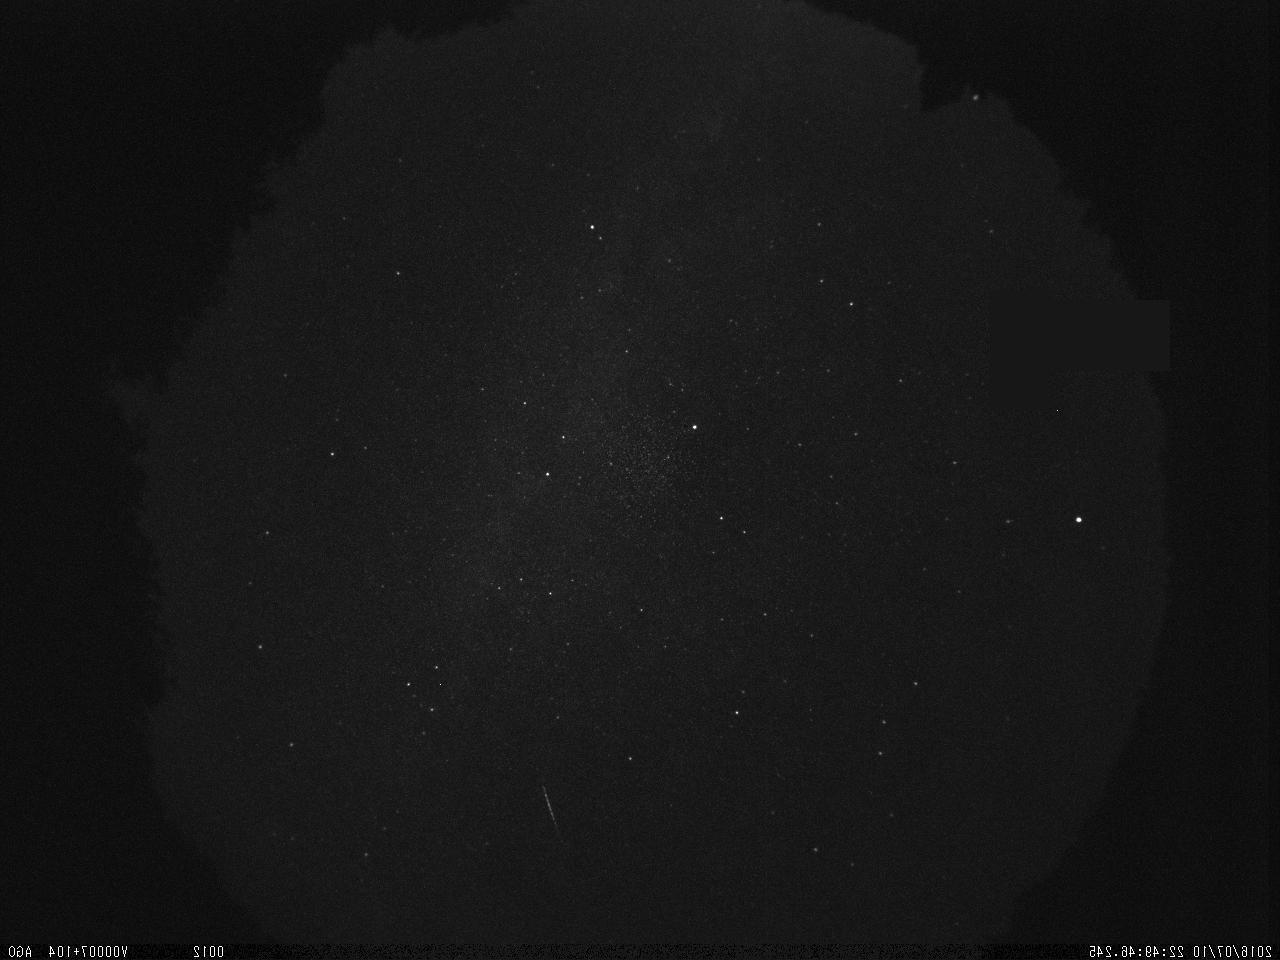meteor: (532, 775, 567, 849)
